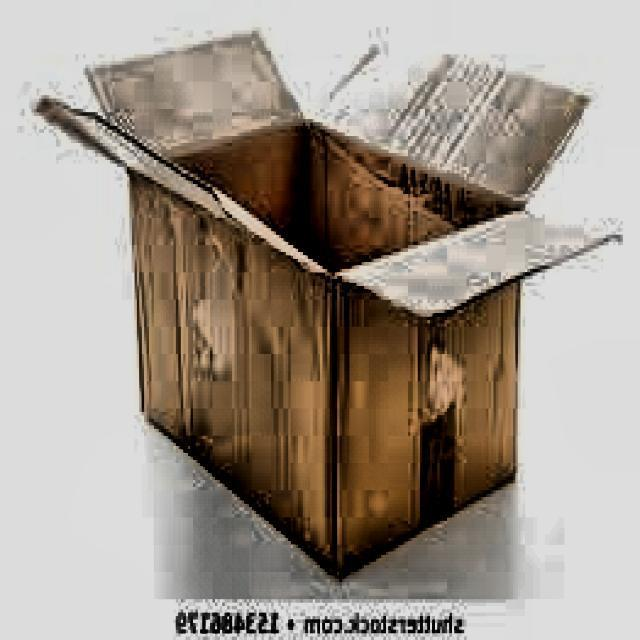cardboard: (36, 24, 624, 579)
